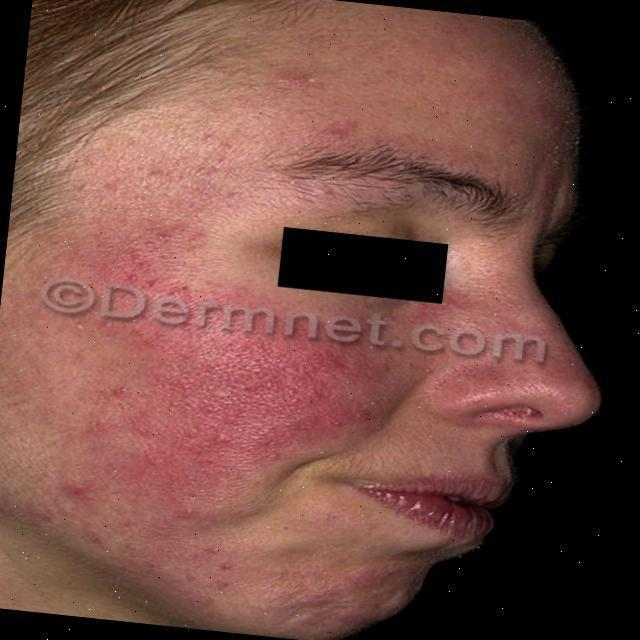skinredness: (19, 231, 423, 570)
